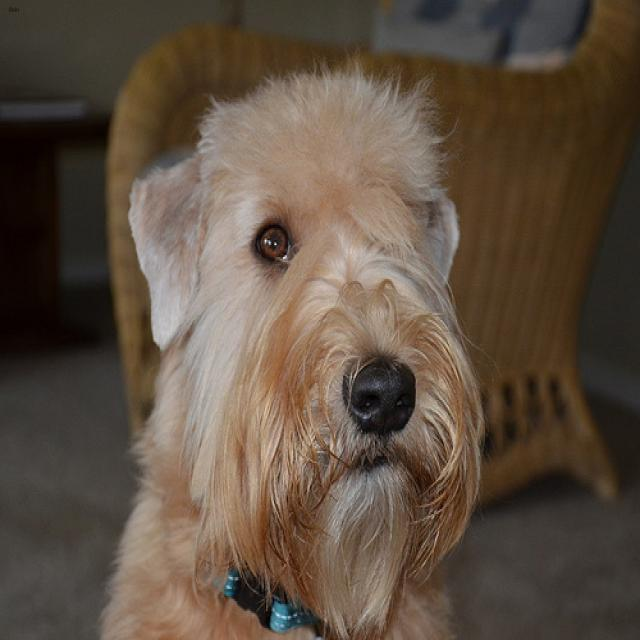dog-wheaten_terrier: (88, 66, 494, 637)
